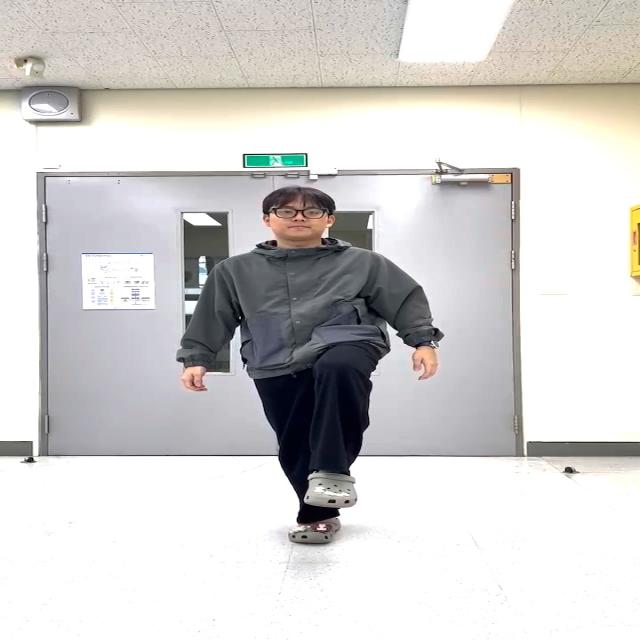leg: (289, 324, 403, 524)
